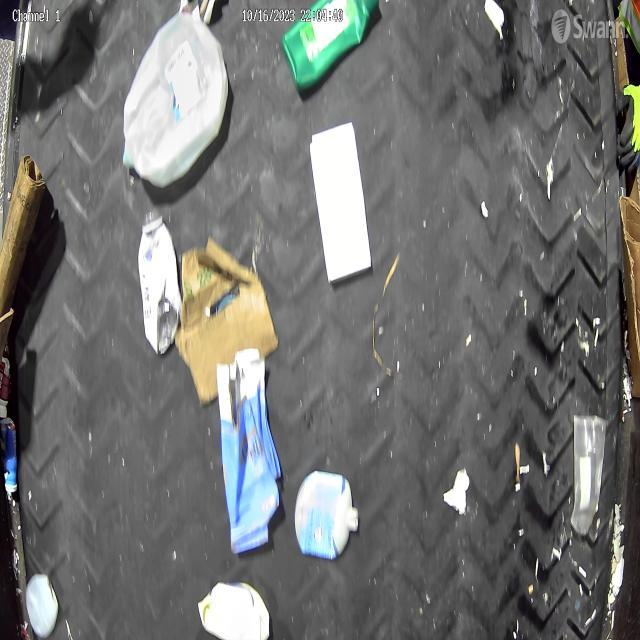milk_jug: (121, 0, 230, 190)
plastic_bottle: (135, 208, 188, 354)
